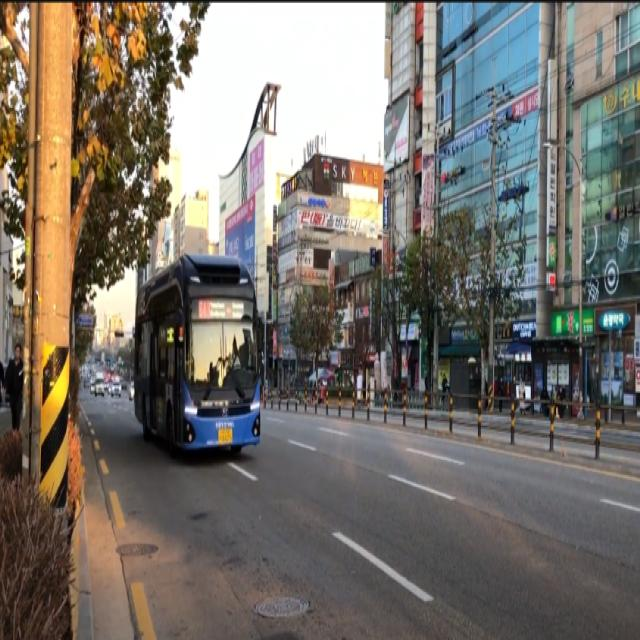bus-number: (198, 299, 210, 320)
